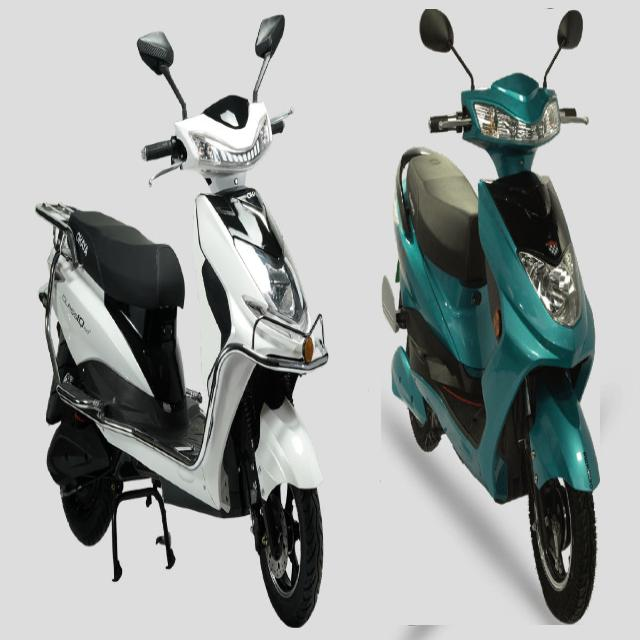motorcycle: (36, 14, 328, 626), (381, 9, 600, 625)
